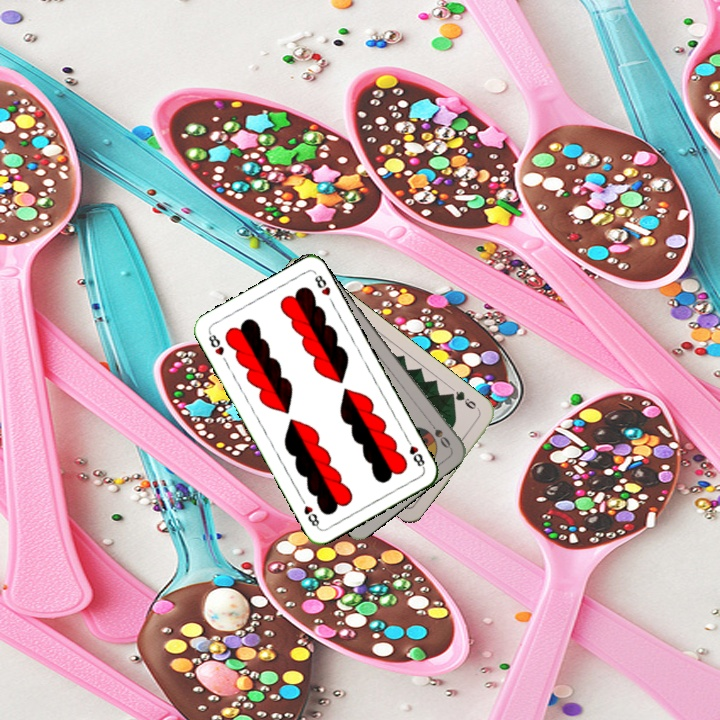G9: (445, 387, 482, 414)
H8: (402, 434, 428, 471), (204, 328, 227, 358)
SO: (424, 416, 453, 451)
